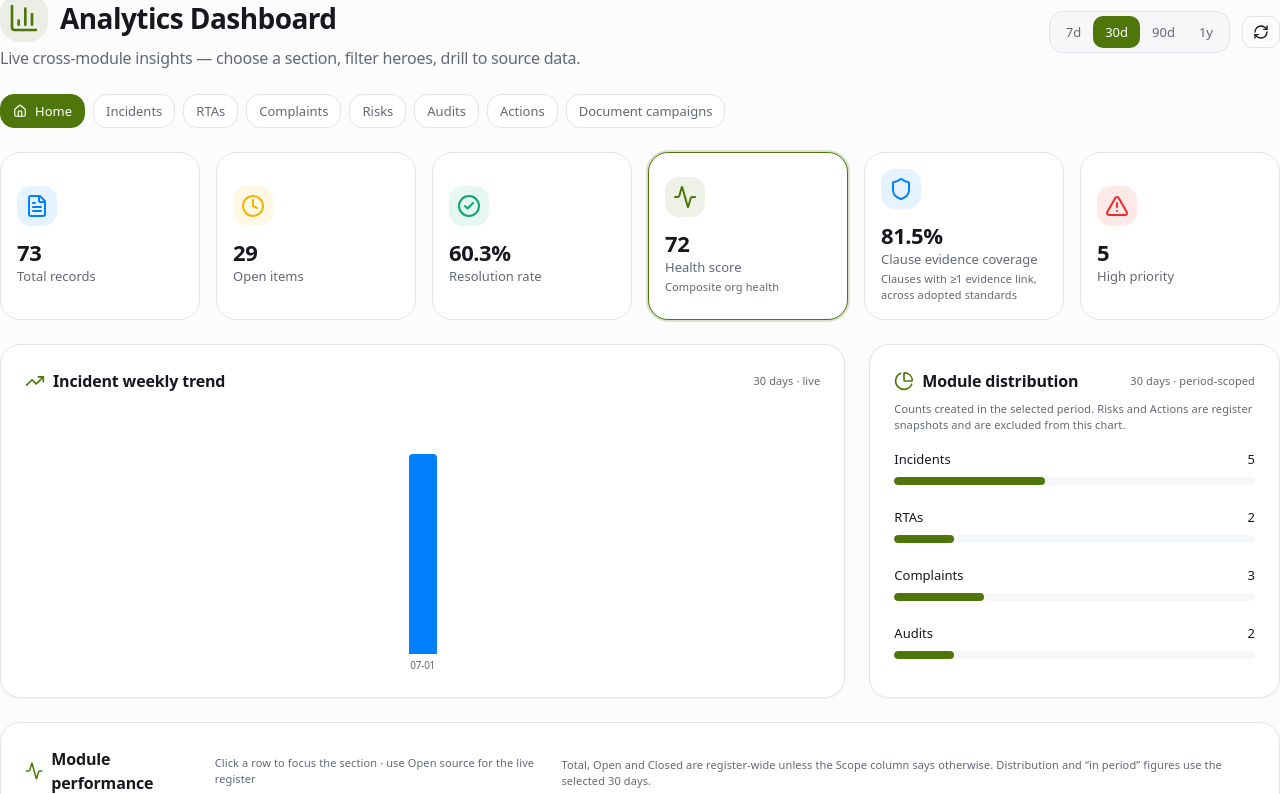
Analytics › loads live KPIs and drills into a section
The image size is (1280, 794).
Expected: the button with test id "analytics-hero-open" shows "Open items", x1=216 y1=152 x2=416 y2=320
Click the tab "Incidents". click: (134, 111)
box: x1=93 y1=94 x2=175 y2=128
(page scrolled)
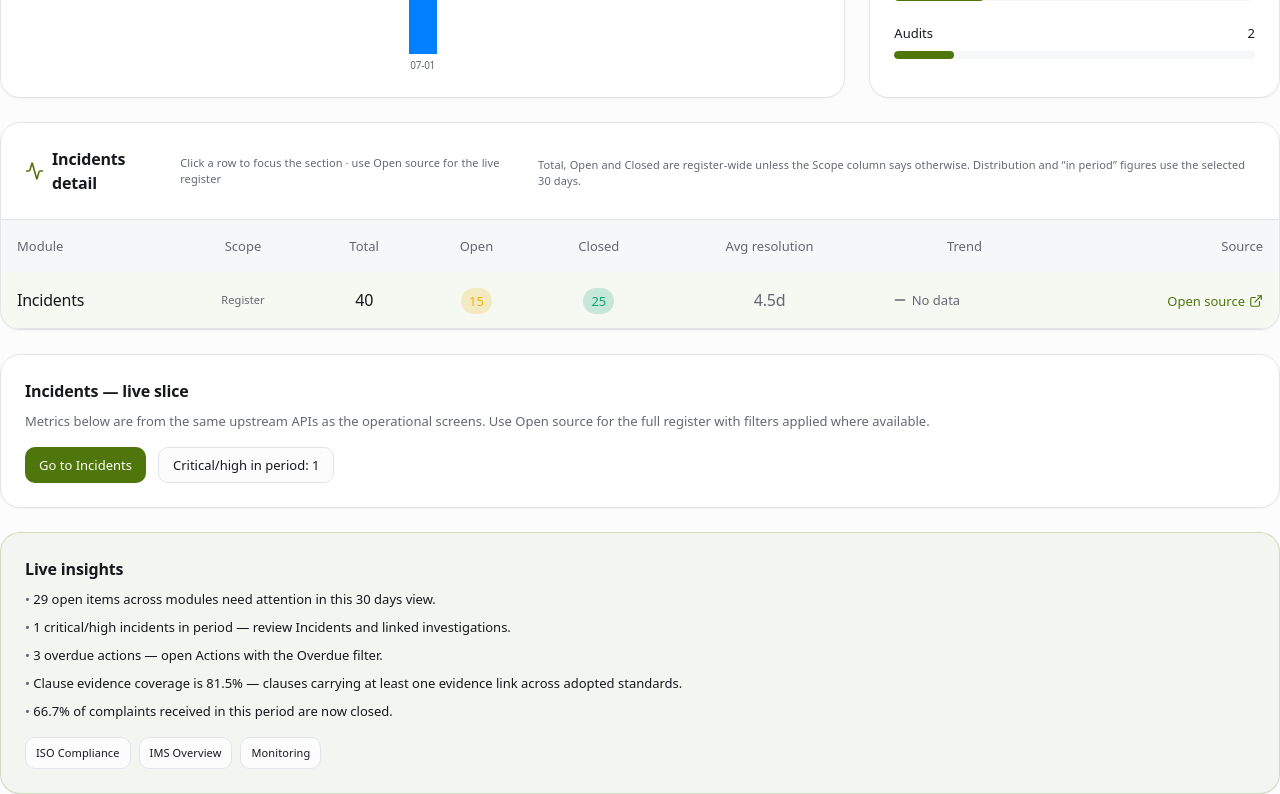
Expected: the element with test id "analytics-section-panel" is shown, x1=0 y1=354 x2=1279 y2=508
